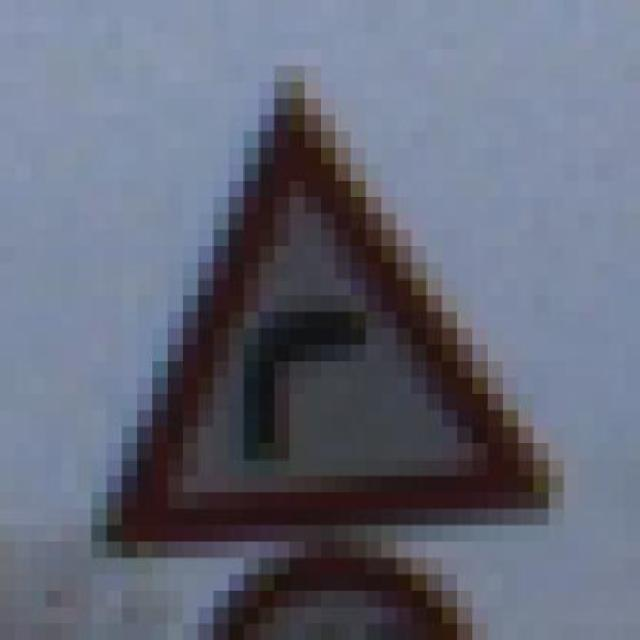Dangerous Rright Curve Ahead: (46, 81, 580, 542)
